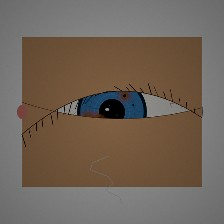foreign_body_visible: (79, 104, 119, 136)
